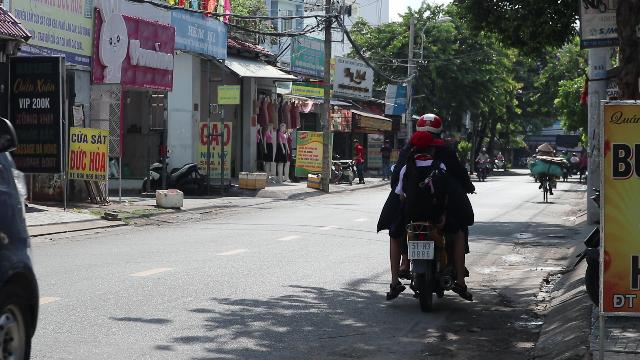helmet: (413, 113, 443, 133)
licenseplate: (409, 241, 433, 259)
motorcyclist: (375, 112, 477, 310), (0, 79, 48, 356)
nohelmet: (406, 129, 444, 157)
